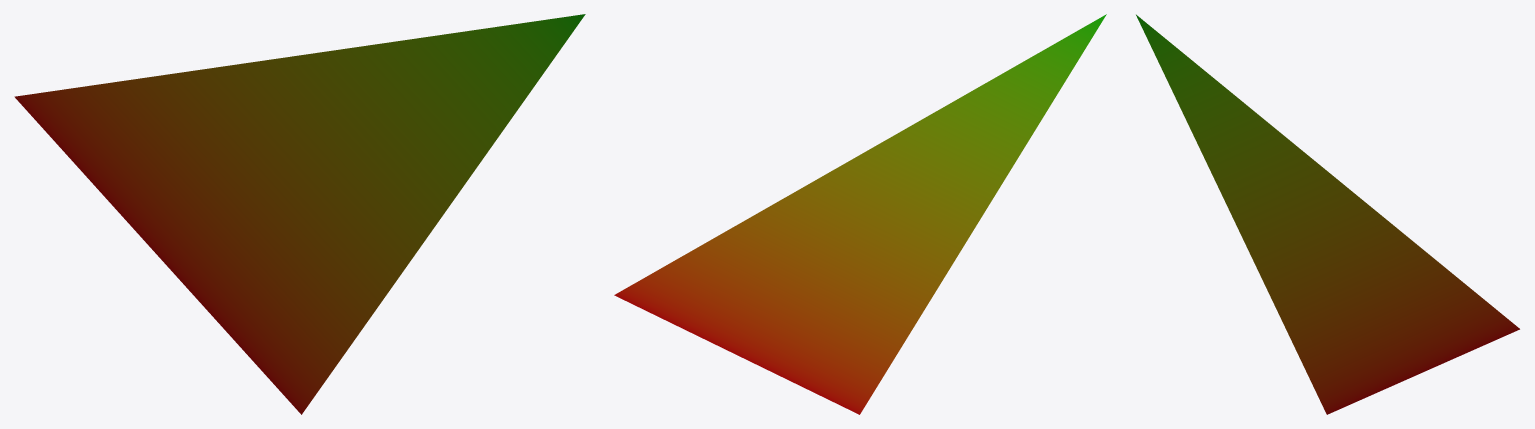
Rendered from border_patch_3.obj.
3 renders of one model, left to right at view 1: azimuth 90°, elevation 25°; view 2: azimuth 150°, elevation 25°; view 3: azimuth 270°, elevation 25°, orthographic. The views are drawn at different scales.
Size of the model in its own units: 0.9272 by 1.12 by 1.16.
